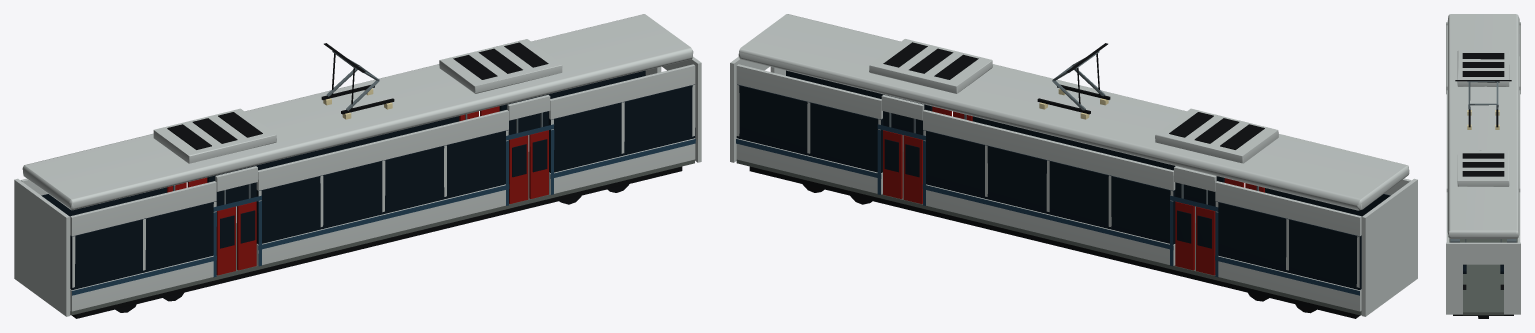
Rendered from INTERMEDIATE_LOD1.fbx.
The picture shows the model from 3 angles, left to right: view 1: azimuth 30°, elevation 25°; view 2: azimuth 150°, elevation 25°; view 3: azimuth 270°, elevation 25°; orthographic projection. The views are drawn at different scales.
Visible parts, largest first — view 1: INTERMEDIATE_LOD1_VISUAL; view 2: INTERMEDIATE_LOD1_VISUAL; view 3: INTERMEDIATE_LOD1_VISUAL.
Part boxes in pixels (x1,y1,x2,y2): INTERMEDIATE_LOD1_VISUAL: (14, 14, 701, 318); INTERMEDIATE_LOD1_VISUAL: (730, 14, 1417, 318); INTERMEDIATE_LOD1_VISUAL: (1446, 14, 1520, 318).
Size of the model in its own units: 7143 by 2017 by 1018.
Materials: 8 (8 with a texture image).
